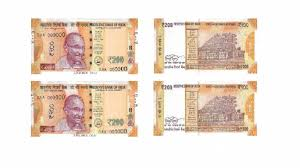twoHundred: (36, 28, 128, 68)
